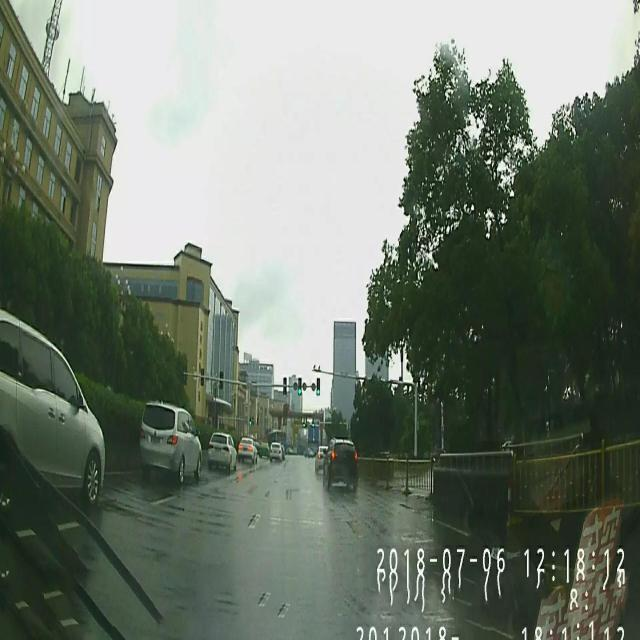car: (0, 310, 104, 504), (134, 402, 203, 484), (322, 438, 358, 498), (208, 428, 238, 476), (238, 436, 258, 466), (268, 444, 284, 464), (314, 448, 326, 472)
